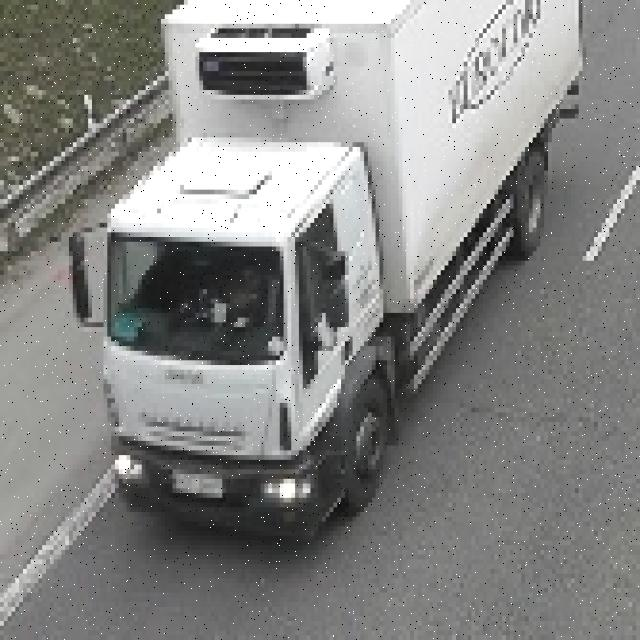truck: (73, 0, 591, 540)
